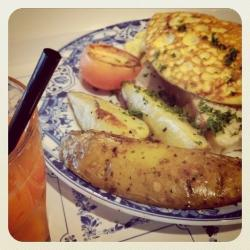omelette: (147, 11, 242, 109)
